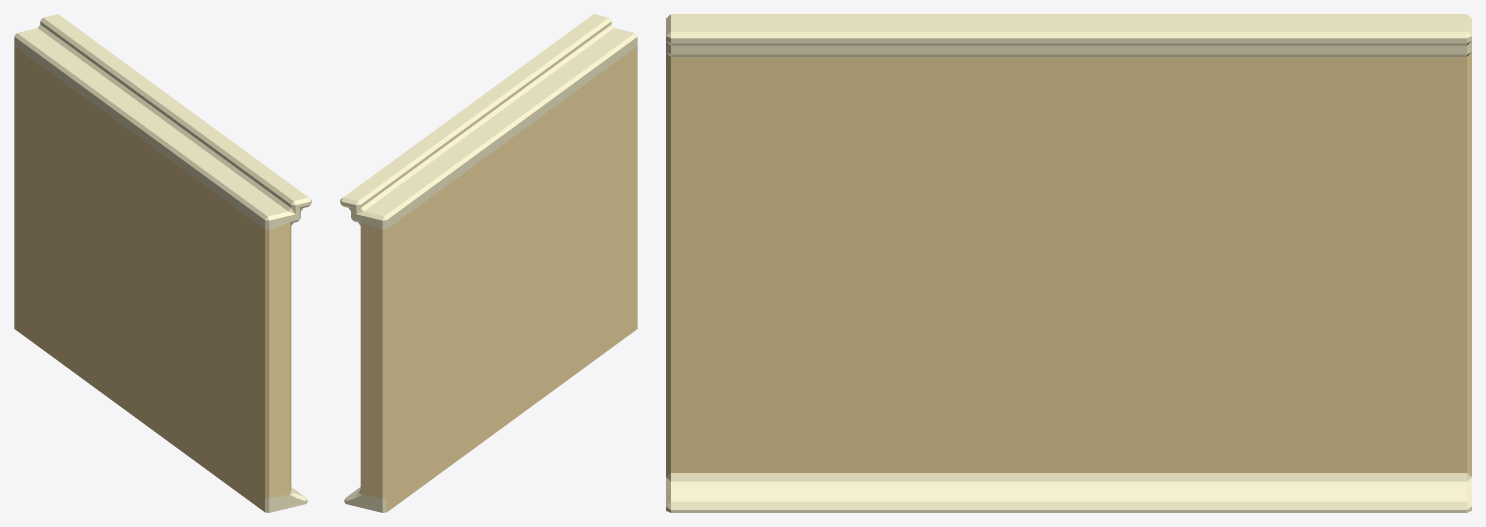
File: Parede.fbx
The picture shows the model from 3 angles, left to right: view 1: azimuth 30°, elevation 25°; view 2: azimuth 150°, elevation 25°; view 3: azimuth 270°, elevation 25°; orthographic projection. The views are drawn at different scales.
Parts seen in each view (by area): view 1: Parede; view 2: Parede; view 3: Parede.
Part boxes in pixels (x1,y1,x2,y2): Parede: (14,14,311,512); Parede: (340,14,637,512); Parede: (666,14,1471,512).
Size of the model in its own units: 169 by 1057 by 1600.
